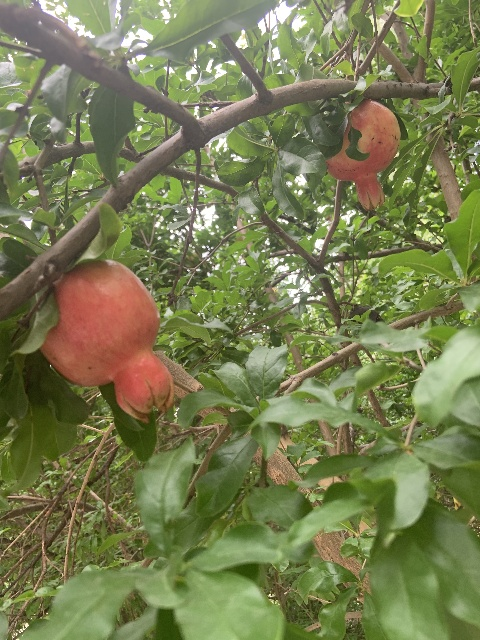ripe: (39, 260, 175, 422), (326, 99, 400, 211)
